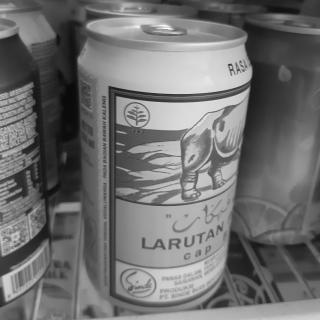alumunium_can: (65, 1, 265, 308)
